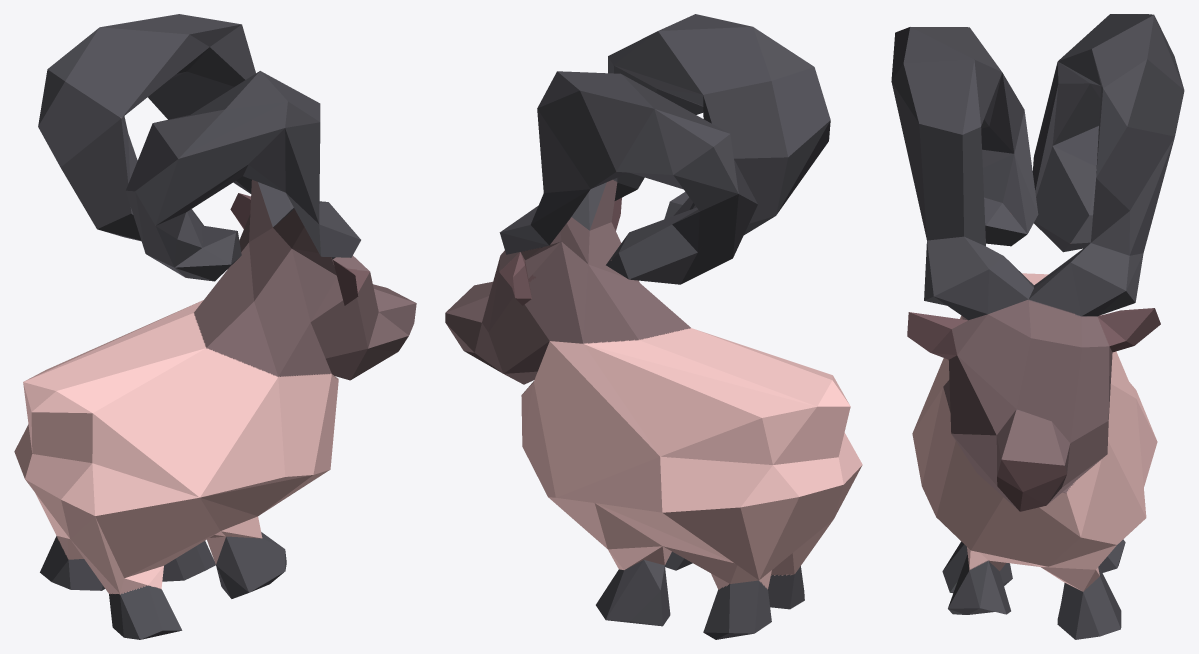
Rendered from cabrita_000013.obj.
3 renders of one model, left to right at view 1: azimuth 30°, elevation 25°; view 2: azimuth 150°, elevation 25°; view 3: azimuth 270°, elevation 25°, orthographic. The views are drawn at different scales.
Visible parts, largest first — view 1: cabra_Cube.067; view 2: cabra_Cube.067; view 3: cabra_Cube.067.
Part boxes in pixels (left/top/right/bottom): cabra_Cube.067: left=14, top=14, right=416, bottom=639; cabra_Cube.067: left=445, top=14, right=862, bottom=639; cabra_Cube.067: left=891, top=14, right=1184, bottom=639.
Size of the model in its own units: 42.89 by 57.9 by 26.27.
1 material, 1 textured.
